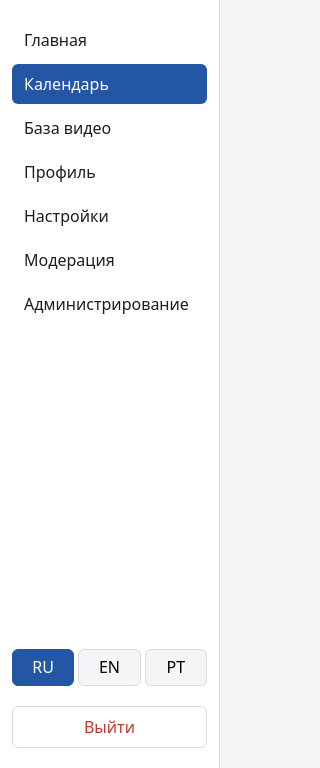
Navigation panel › switches the interface language
This screenshot has width=320, height=768.
Click the button "EN". click: (109, 667)
box: [78, 649, 141, 686]
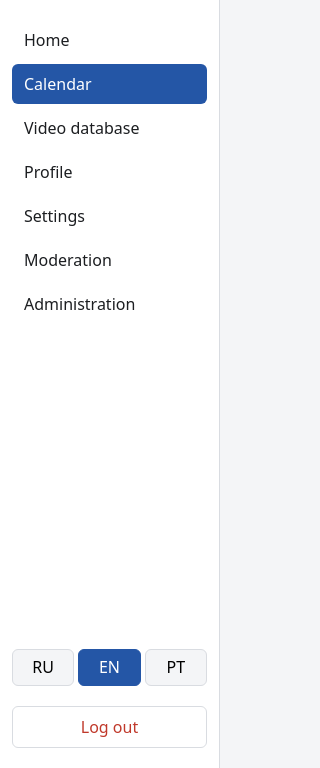
Expected: the link "Calendar" is shown, [12, 64, 207, 104]
Now the button "Log out" is shown, box [12, 706, 207, 748]
Click the button "PT". click: (176, 667)
box: [145, 649, 207, 686]
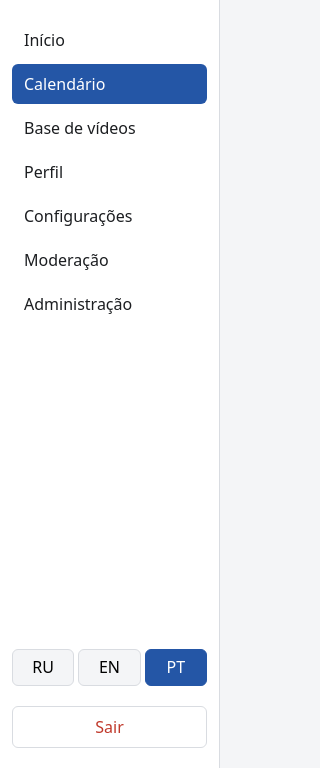
Now the link "Calendário" is shown, box [12, 64, 207, 104]
Now the button "Sair" is shown, box [12, 706, 207, 748]
